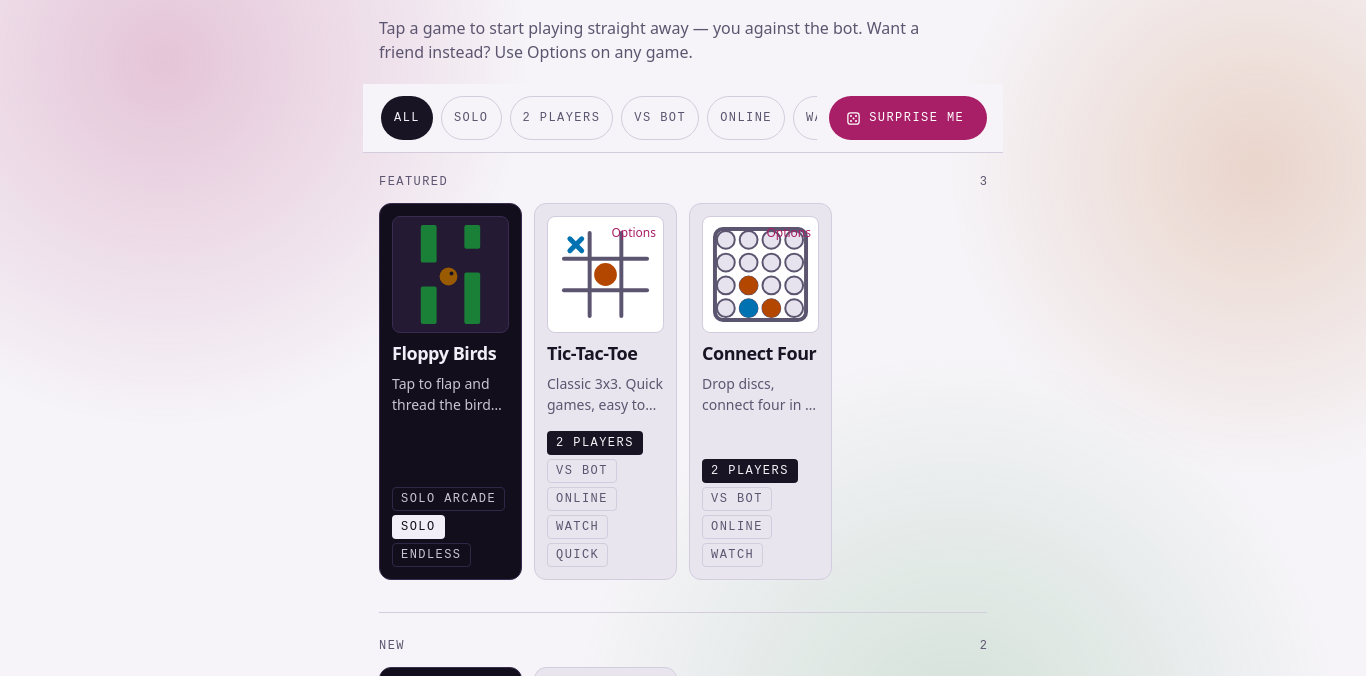
Test: HomeScreen › tag filter (MPG-112 / UI-5) › clears by re-pressing the active chip — the most obvious place to undo it
Click the button "Online". click: (746, 118)
box: x1=707 y1=96 x2=785 y2=140
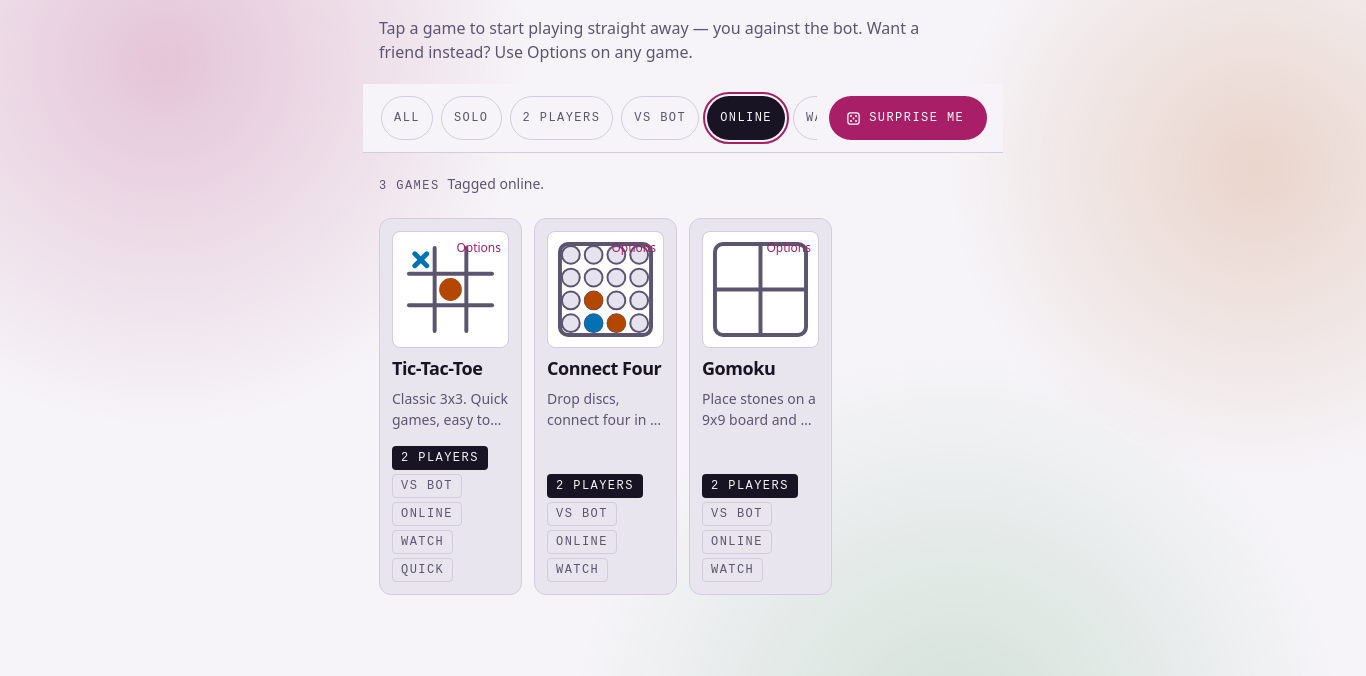
Expected: the button "Online" is pressed
Click the button "Online". click: (746, 118)
box: x1=707 y1=96 x2=785 y2=140
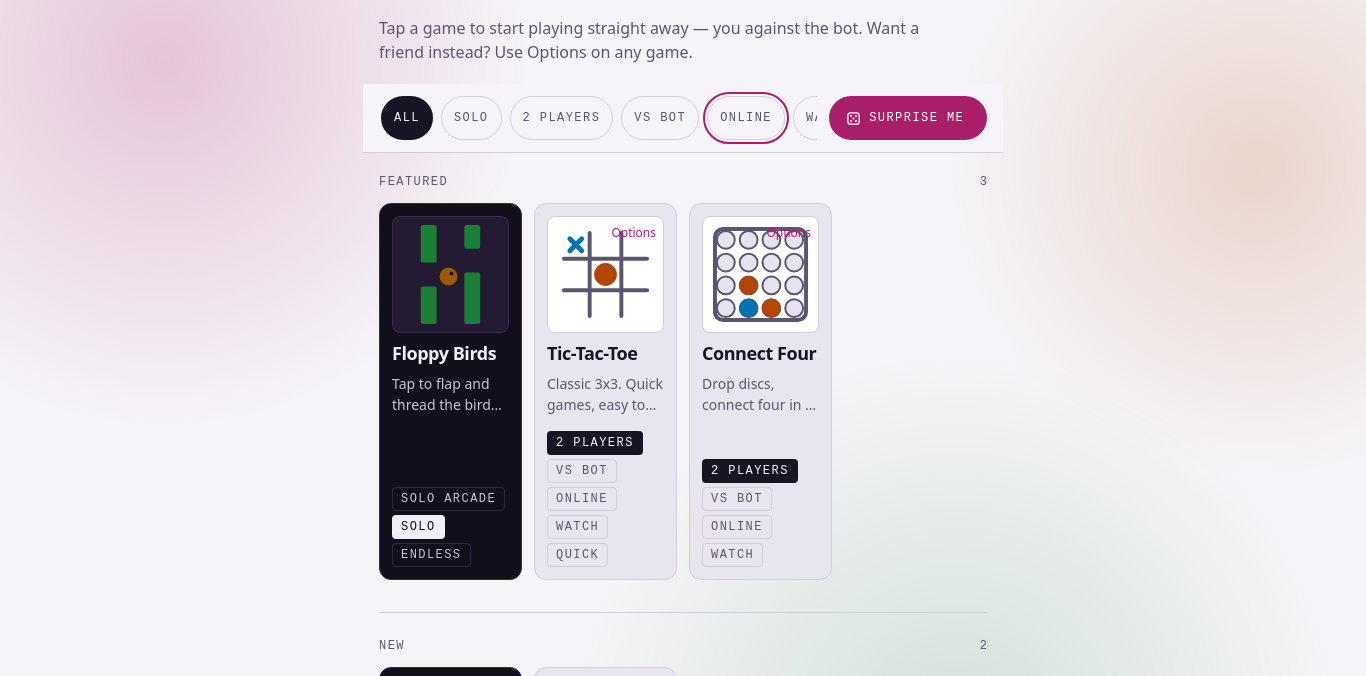
Expected: the heading "Featured" is shown, x1=379 y1=173 x2=448 y2=191
